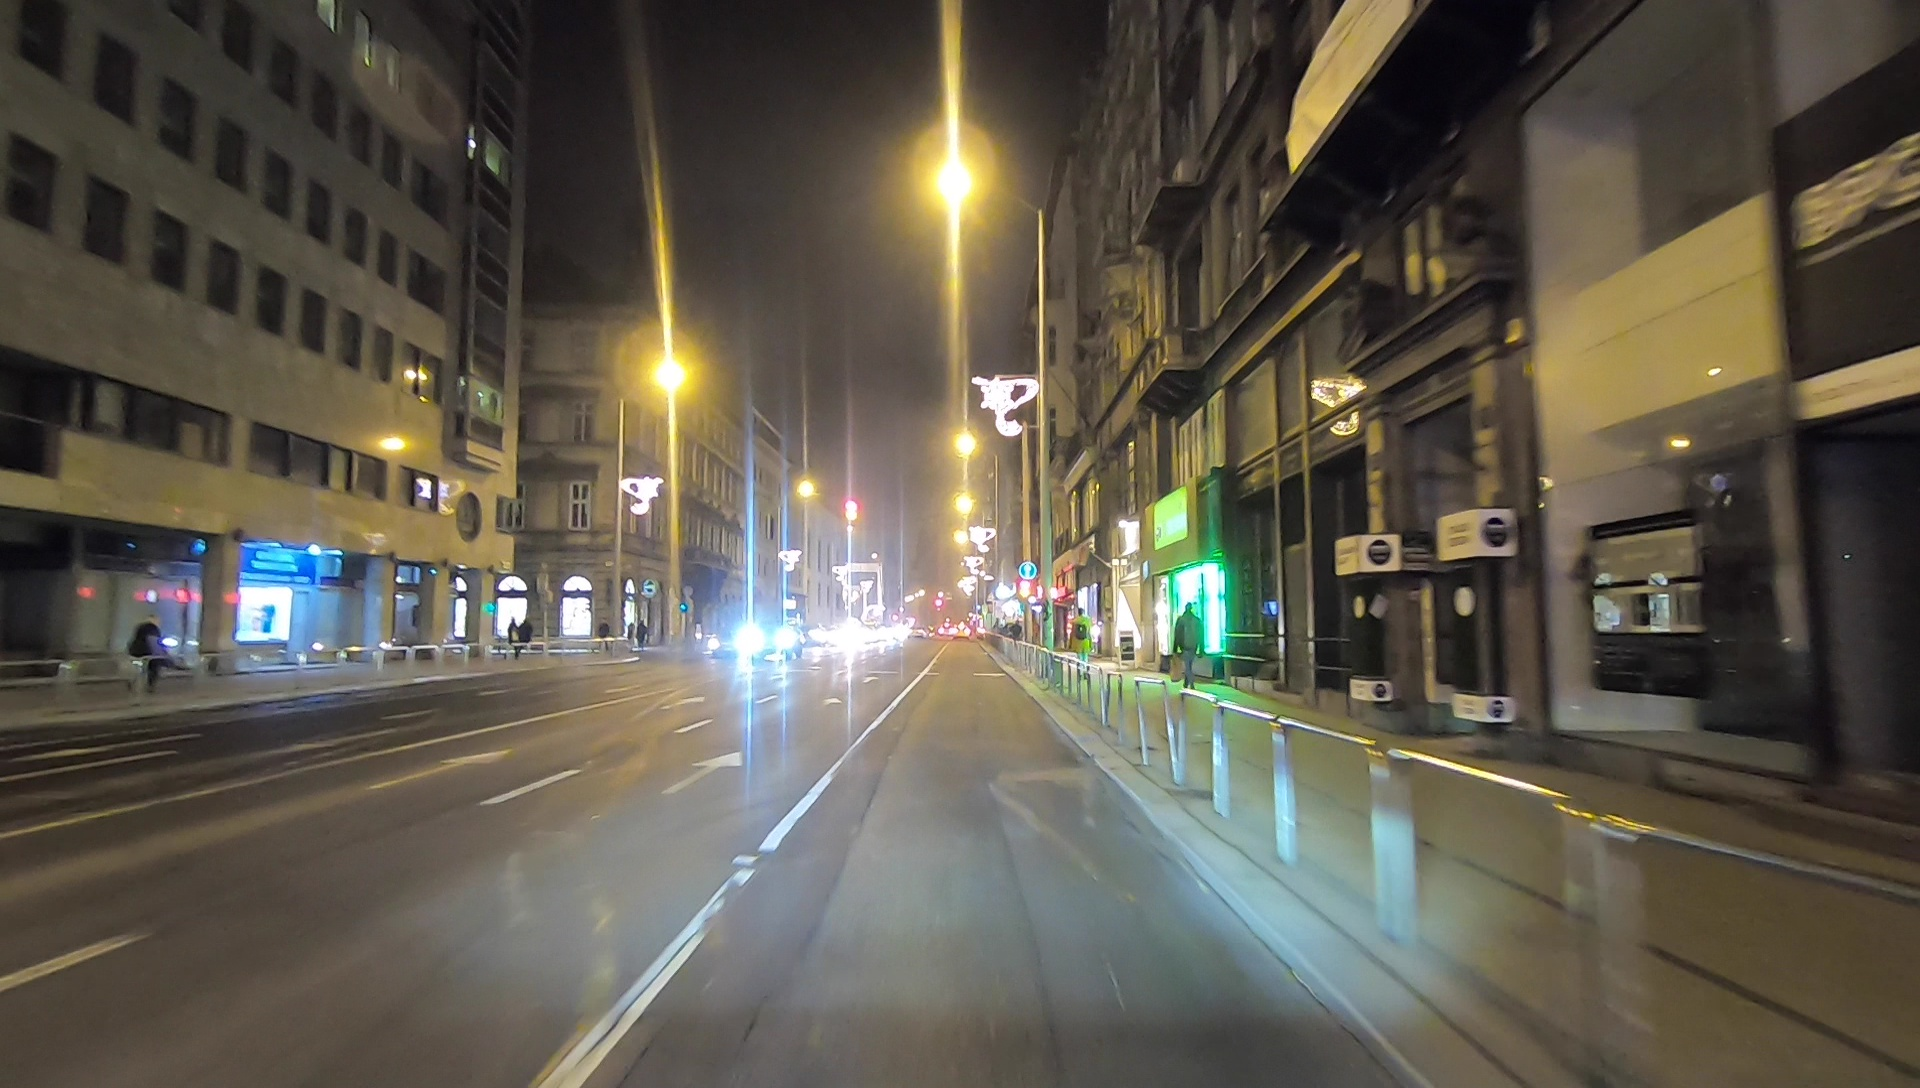person: (127, 614, 168, 697), (1175, 603, 1204, 697), (1070, 608, 1089, 679), (517, 619, 533, 660), (595, 620, 611, 653), (508, 618, 518, 660), (636, 618, 647, 650)
